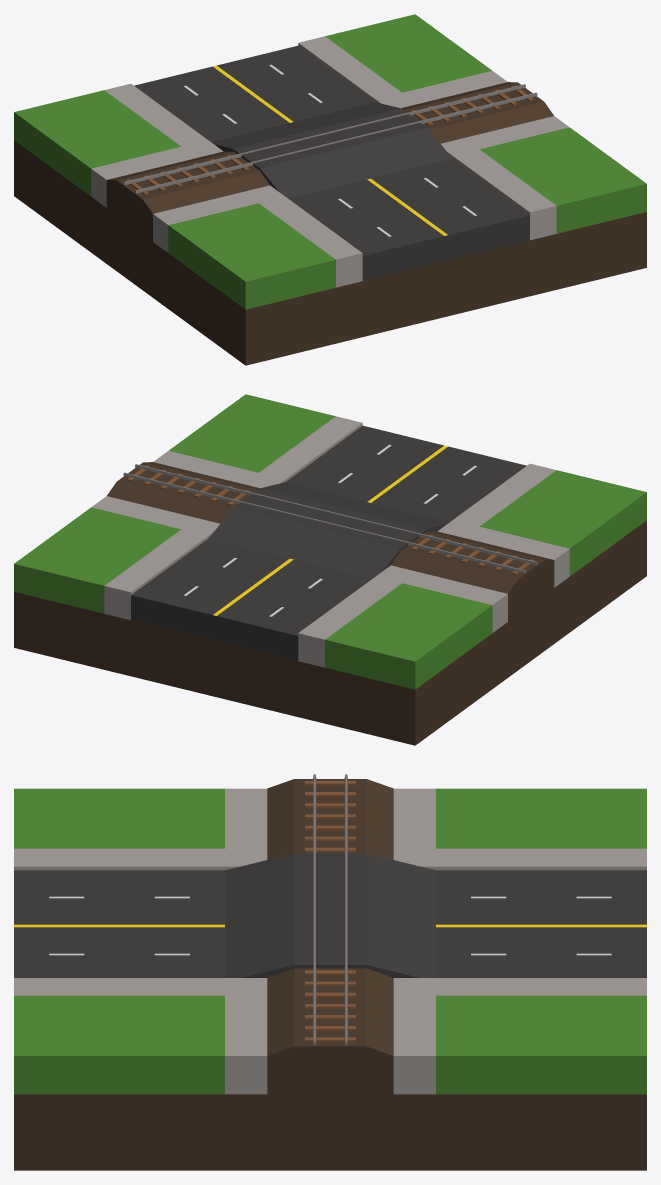
The model's file is tiles_tile-rail-mainroad-crossing.fbx.
The picture shows the model from 3 angles, top to bottom: view 1: azimuth 30°, elevation 25°; view 2: azimuth 150°, elevation 25°; view 3: azimuth 270°, elevation 25°; orthographic projection. The views are drawn at different scales.
Visible parts, largest first — view 1: tiles_tile_rail_mainroad_crossing; view 2: tiles_tile_rail_mainroad_crossing; view 3: tiles_tile_rail_mainroad_crossing.
Part boxes in pixels (x1,y1,x2,y2): tiles_tile_rail_mainroad_crossing: (14, 14, 646, 365); tiles_tile_rail_mainroad_crossing: (14, 394, 646, 745); tiles_tile_rail_mainroad_crossing: (14, 774, 646, 1170).
Size of the model in its own units: 200 by 44.97 by 200.
